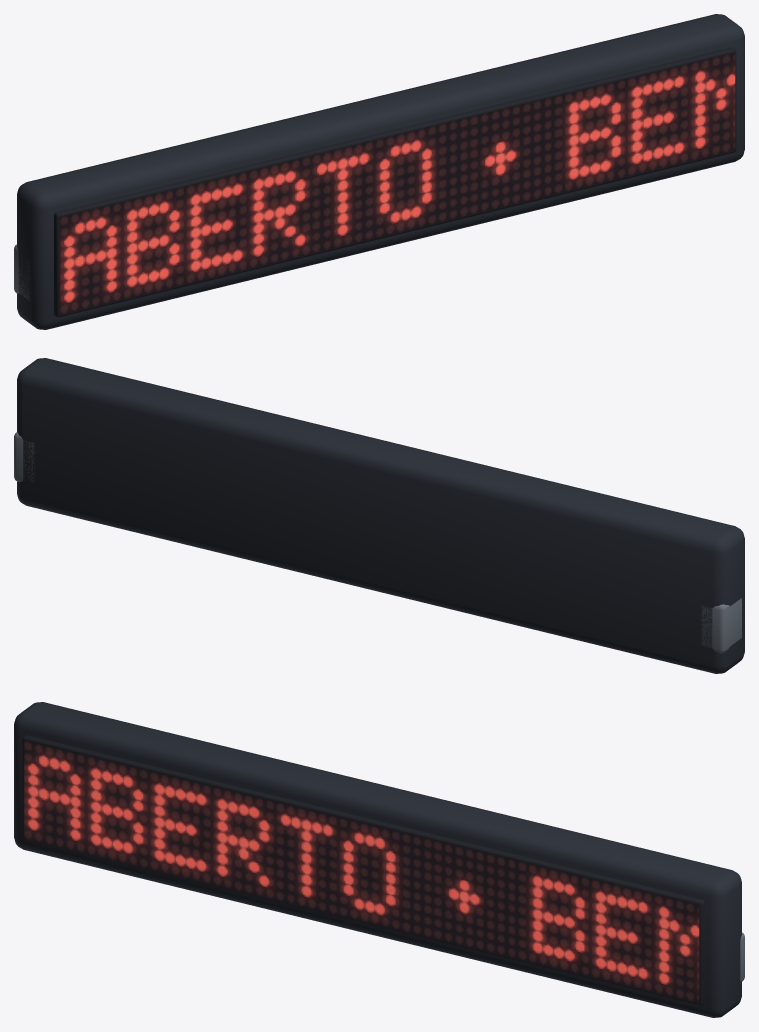
File: led_aberto_rolante.glb
3 views of the same model, one above another, from view 1: azimuth 30°, elevation 25°; view 2: azimuth 150°, elevation 25°; view 3: azimuth 330°, elevation 25° (orthographic).
Visible parts, largest first — view 1: led_rolante, led_aberto_rolante; view 2: led_aberto_rolante; view 3: led_rolante, led_aberto_rolante.
Boxes of the visible parts, x1,y1,x2,y2 form: led_rolante: [59, 52, 735, 315]; led_aberto_rolante: [14, 14, 744, 329]; led_aberto_rolante: [14, 358, 744, 673]; led_rolante: [23, 740, 699, 1003]; led_aberto_rolante: [14, 702, 744, 1017].
Bounding box in the file's own units: 3.16 × 0.58 × 0.228.
2 materials, 2 textured.
